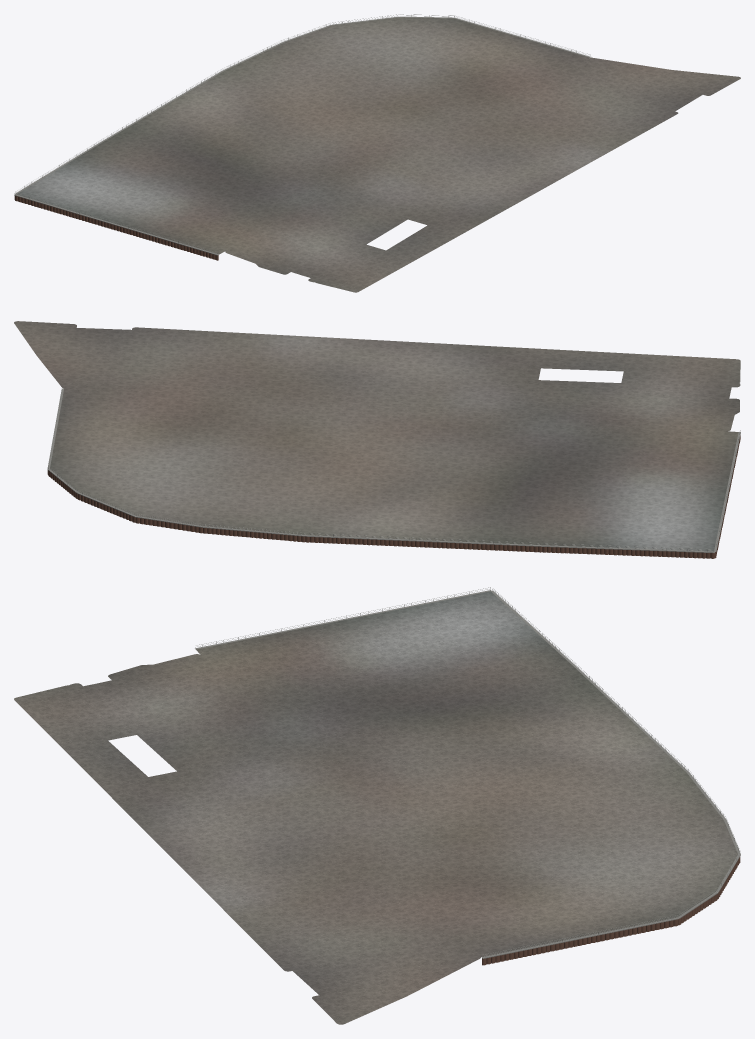
The picture shows the model from 3 angles, top to bottom: view 1: azimuth 30°, elevation 25°; view 2: azimuth 150°, elevation 25°; view 3: azimuth 270°, elevation 25°; orthographic projection. The views are drawn at different scales.
Visible parts, largest first — view 1: Exposed waterfront platform, Capping beam and edge walk, Weathered waterfront piles, Temporary waterside railing; view 2: Exposed waterfront platform, Weathered waterfront piles, Capping beam and edge walk, Temporary waterside railing; view 3: Exposed waterfront platform, Capping beam and edge walk, Weathered waterfront piles, Temporary waterside railing.
Part boxes in pixels (x1,y1,x2,y2): Exposed waterfront platform: (16,17,740,292); Capping beam and edge walk: (14,16,591,255); Weathered waterfront piles: (14,196,218,260); Temporary waterside railing: (14,14,590,253); Exposed waterfront platform: (14,321,740,551); Weathered waterfront piles: (47,435,740,558); Capping beam and edge walk: (47,389,740,553); Temporary waterside railing: (48,387,740,551); Exposed waterfront platform: (14,591,737,1024); Capping beam and edge walk: (195,590,740,958); Weathered waterfront piles: (482,857,740,965); Temporary waterside railing: (195,587,740,956).
Size of the model in its own units: 320 by 3.63 by 229.
4 materials, 4 textured.
